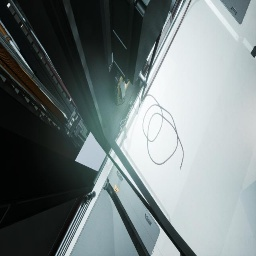EmergencyPhone ,: (115, 71, 130, 106)
